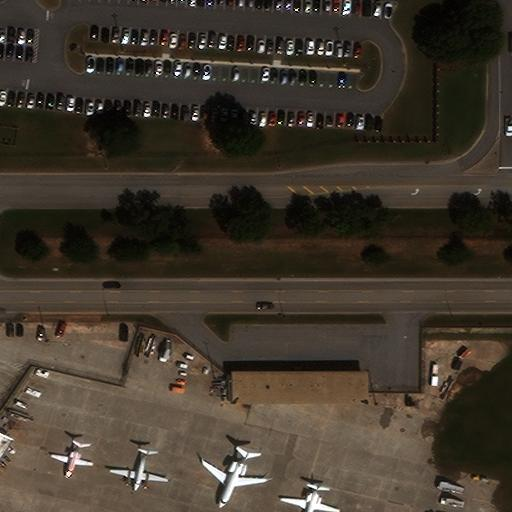Medium Civil Transport: (201, 451, 265, 508), (109, 449, 167, 491), (280, 482, 338, 512)
Small Civil Transport: (50, 442, 92, 478)
